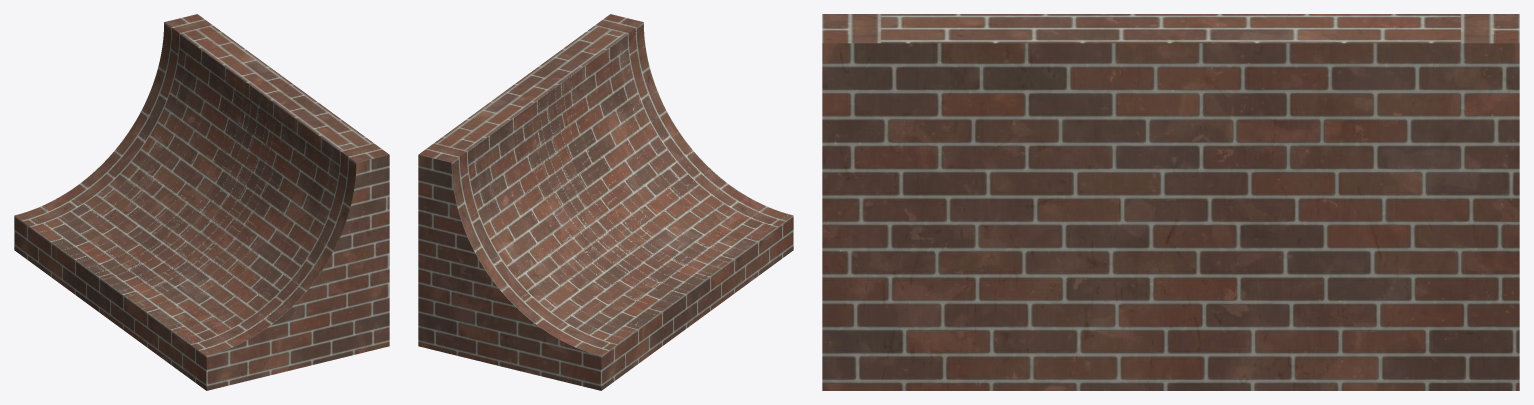
The model's file is ramp_90_solid.dae.
The picture shows the model from 3 angles, left to right: view 1: azimuth 30°, elevation 25°; view 2: azimuth 150°, elevation 25°; view 3: azimuth 270°, elevation 25°; orthographic projection. The views are drawn at different scales.
Parts seen in each view (by area): view 1: Component_1 (×3); view 2: Component_1 (×3); view 3: Component_1 (×2).
Boxes of the visible parts, x1,y1,x2,y2 form: Component_1 (×3): [14, 14, 389, 390]; Component_1 (×3): [418, 14, 793, 390]; Component_1 (×2): [822, 14, 1519, 390].
Size of the model in its own units: 21.65 by 39.37 by 21.65.
Materials: 2 (2 with a texture image).
